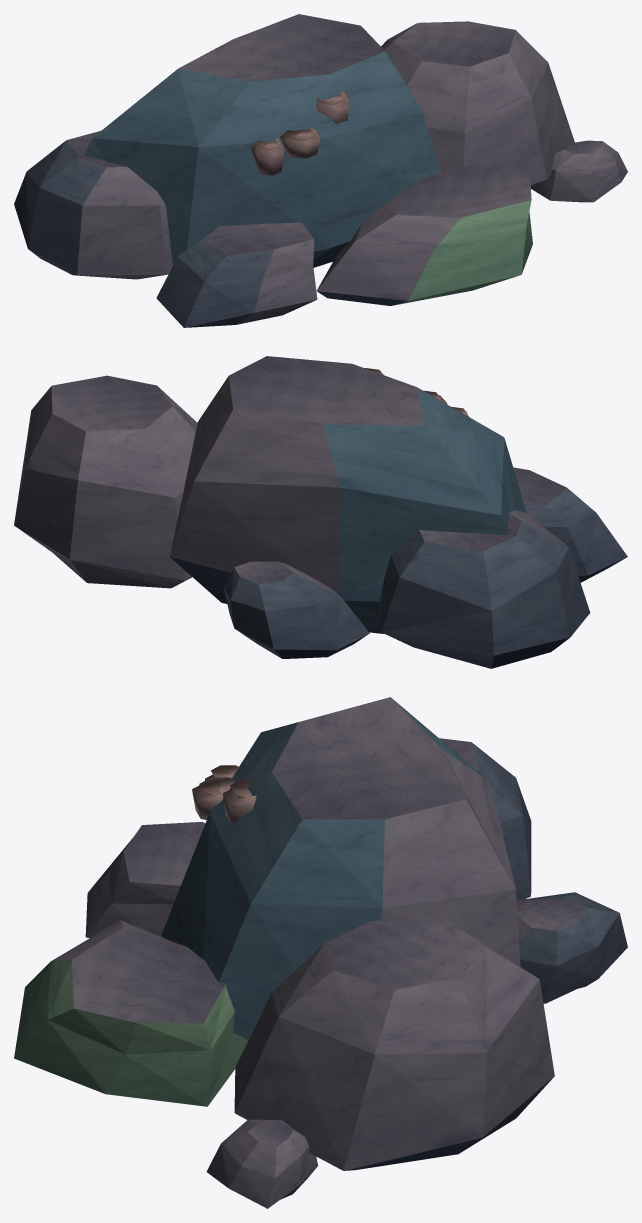
Rendered from Roca_Grupo_Derrumbe.fbx.
The picture shows the model from 3 angles, top to bottom: view 1: azimuth 30°, elevation 25°; view 2: azimuth 150°, elevation 25°; view 3: azimuth 270°, elevation 25°; orthographic projection. The views are drawn at different scales.
Parts seen in each view (by area): view 1: Roca_Grupo_Derrumbe; view 2: Roca_Grupo_Derrumbe; view 3: Roca_Grupo_Derrumbe.
Part boxes in pixels (left/top/right/bottom): Roca_Grupo_Derrumbe: left=14, top=14, right=627, bottom=327; Roca_Grupo_Derrumbe: left=14, top=356, right=627, bottom=668; Roca_Grupo_Derrumbe: left=14, top=697, right=627, bottom=1208.
Size of the model in its own units: 8.04 by 5.62 by 2.49.
Materials: 1 (1 with a texture image).
